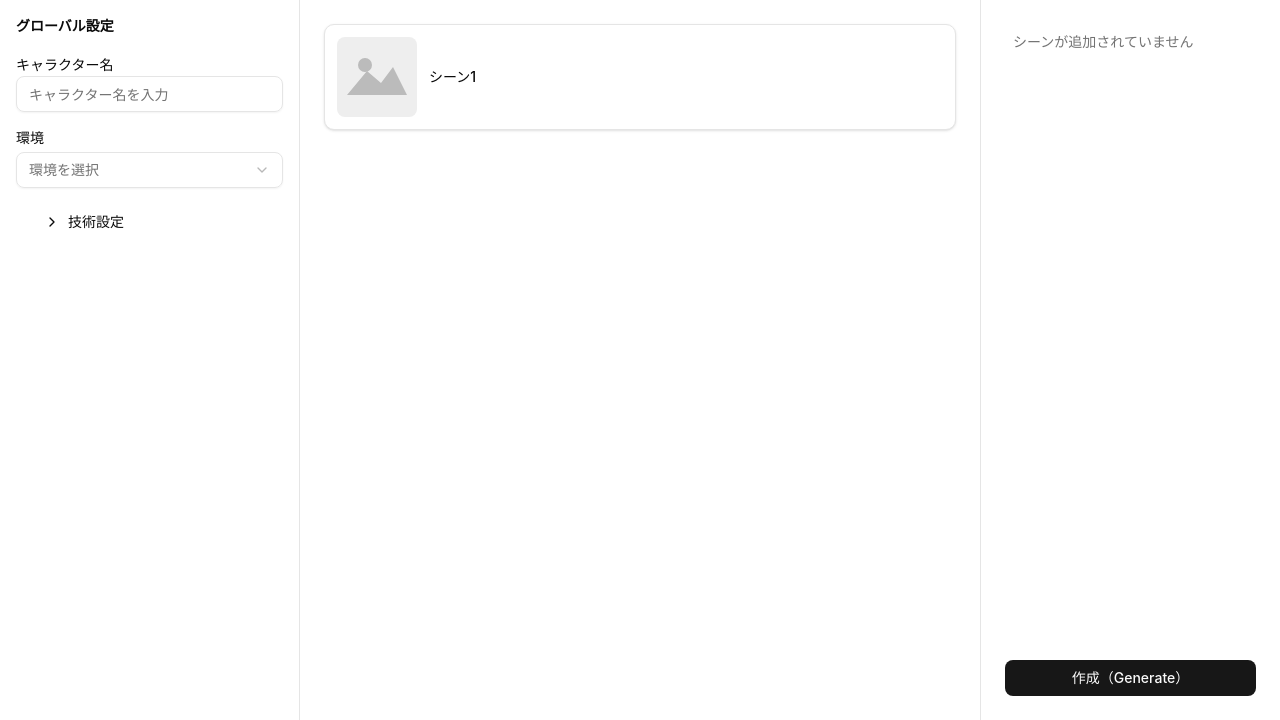
Scenario: AppContent SceneEditDrawer 統合 (Task 5) › QueueCard をクリックするとドロワーが開く
The image size is (1280, 720).
Expected: the text "シーン1" is shown, [429,67,476,87]
// シーンライブラリのボタンをクリックしてキューに追加
Click the button "シーン1".
click(377, 77)  # box [324,24,956,130]
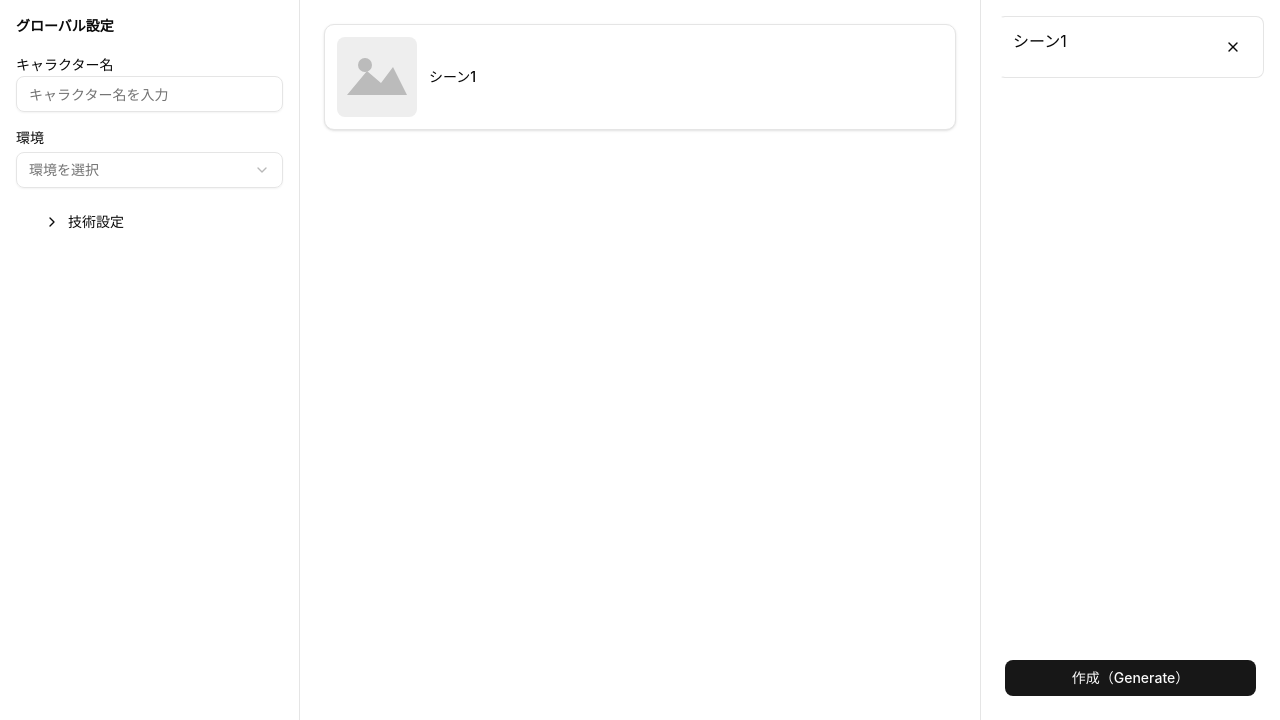
Click the 1st button "シーン1".
click(1040, 41)  # box [997,16,1264,78]
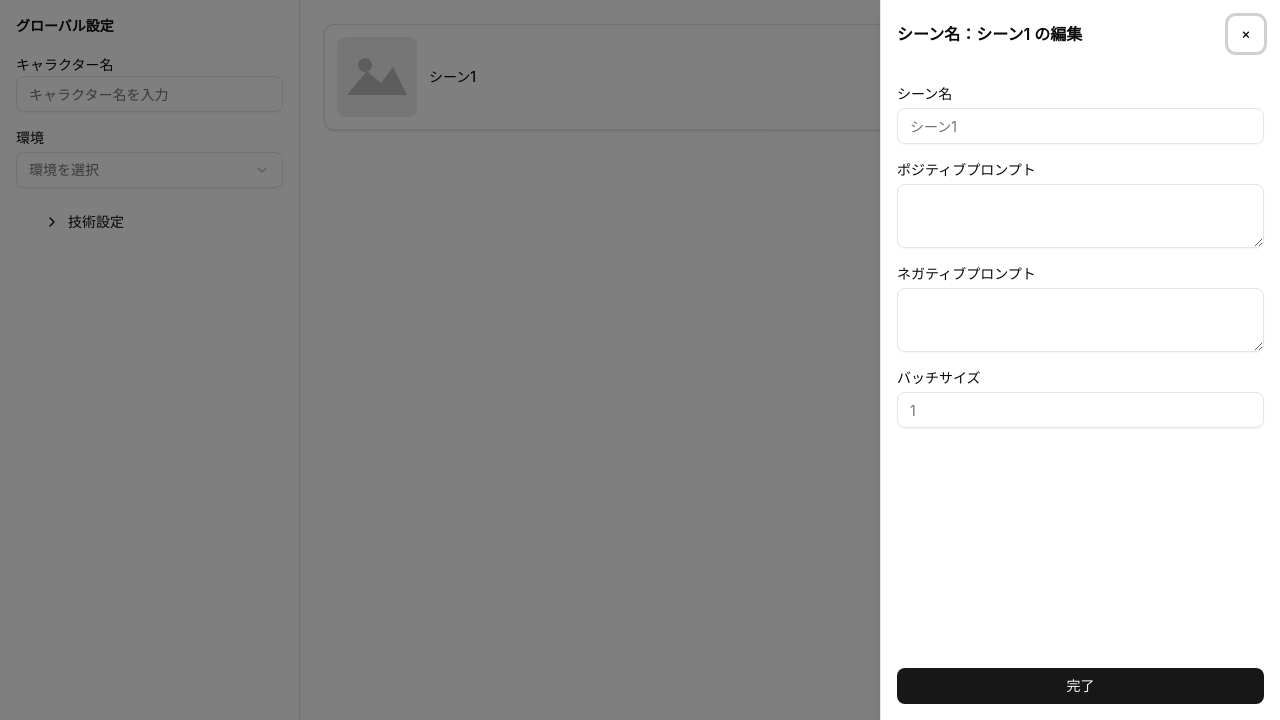
Now the dialog is shown, box [880,0,1279,719]
